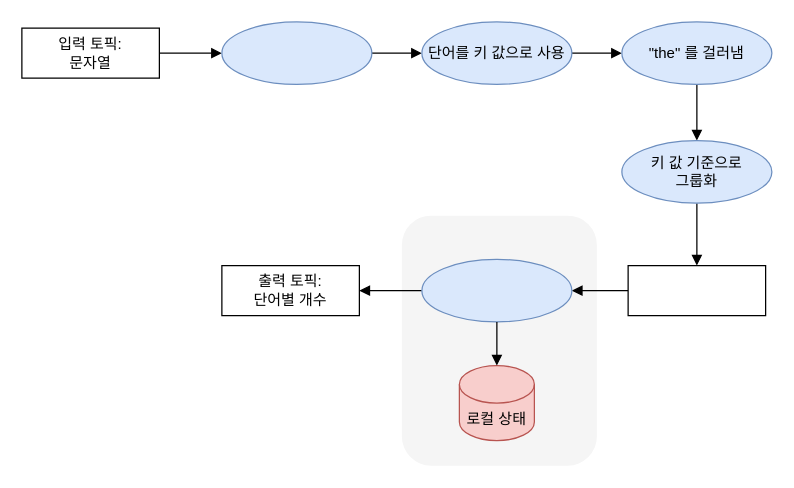
Some shapes in this 794 by 488 pixel diagram are drawn without their labels. Here are the shapes that lost their labels. From the top down, the centre of each, then its label:
At (296,52): "단어 단위로 분할".
At (496,290): "단어 개수 산출".
At (696,290): "리파티션된 토픽".
